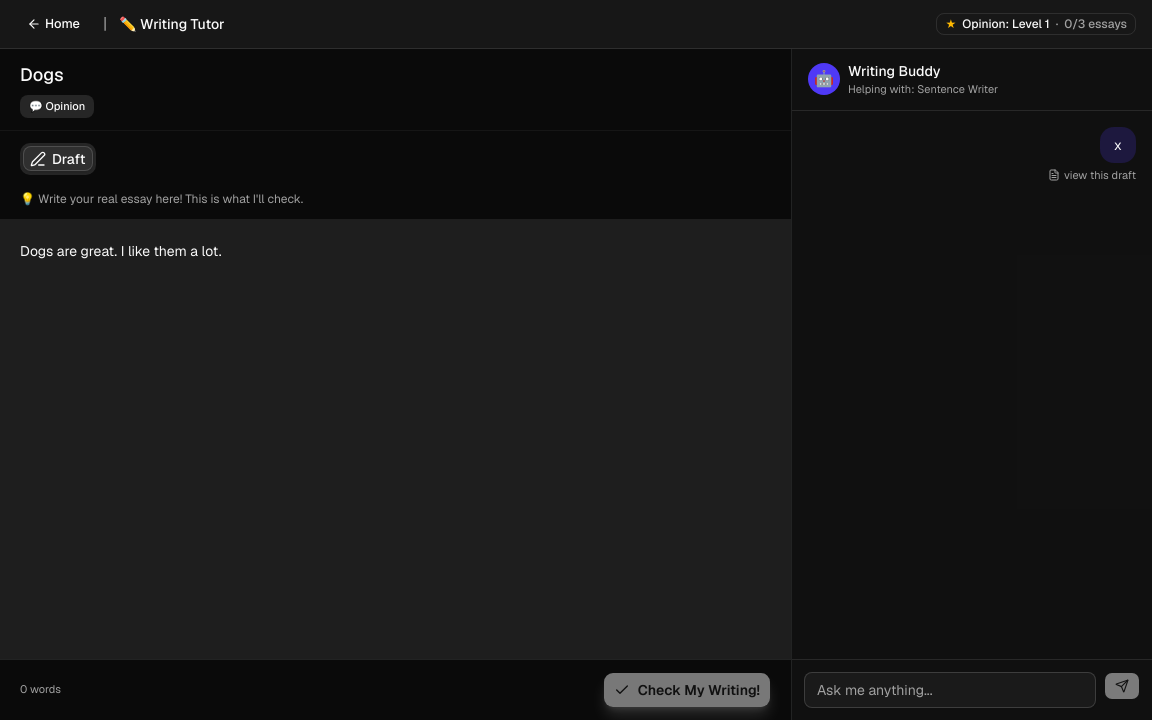
Test case: WritingScreen — history mode › Escape exits history mode
Click the button "view this draft" at (1092, 175), box top-left (1048, 166), bottom-right (1136, 183)
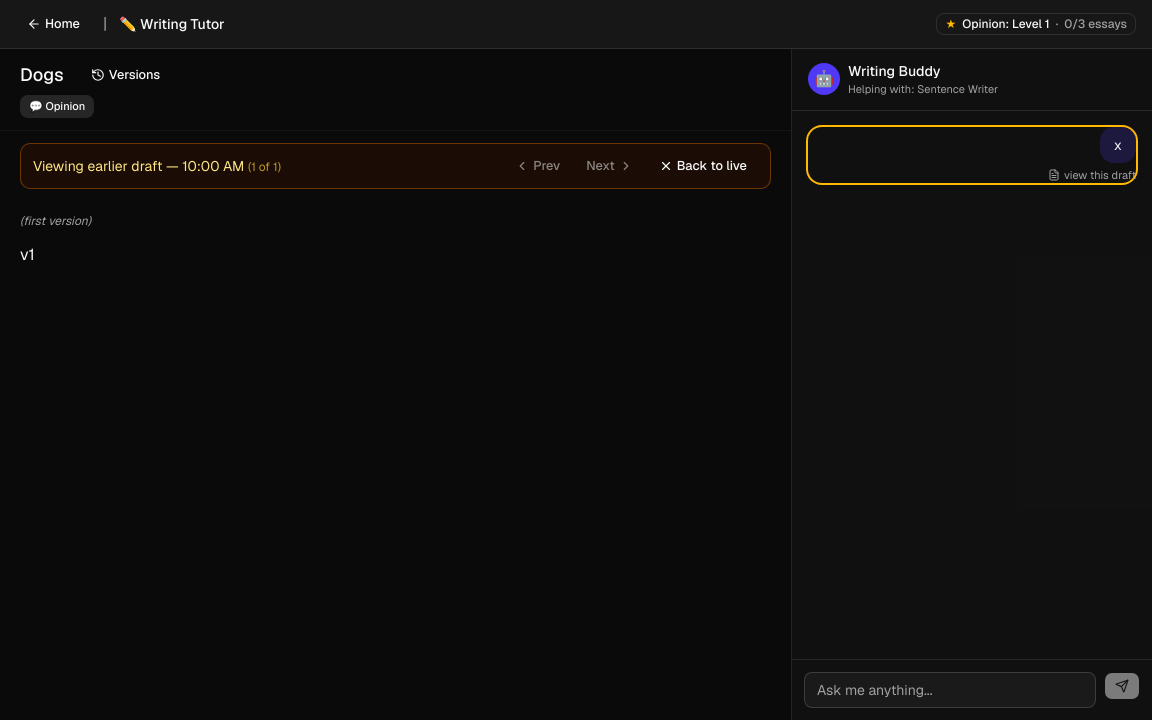
Expected: the button "Back to live" is shown, top-left (648, 152), bottom-right (758, 180)
Press Escape
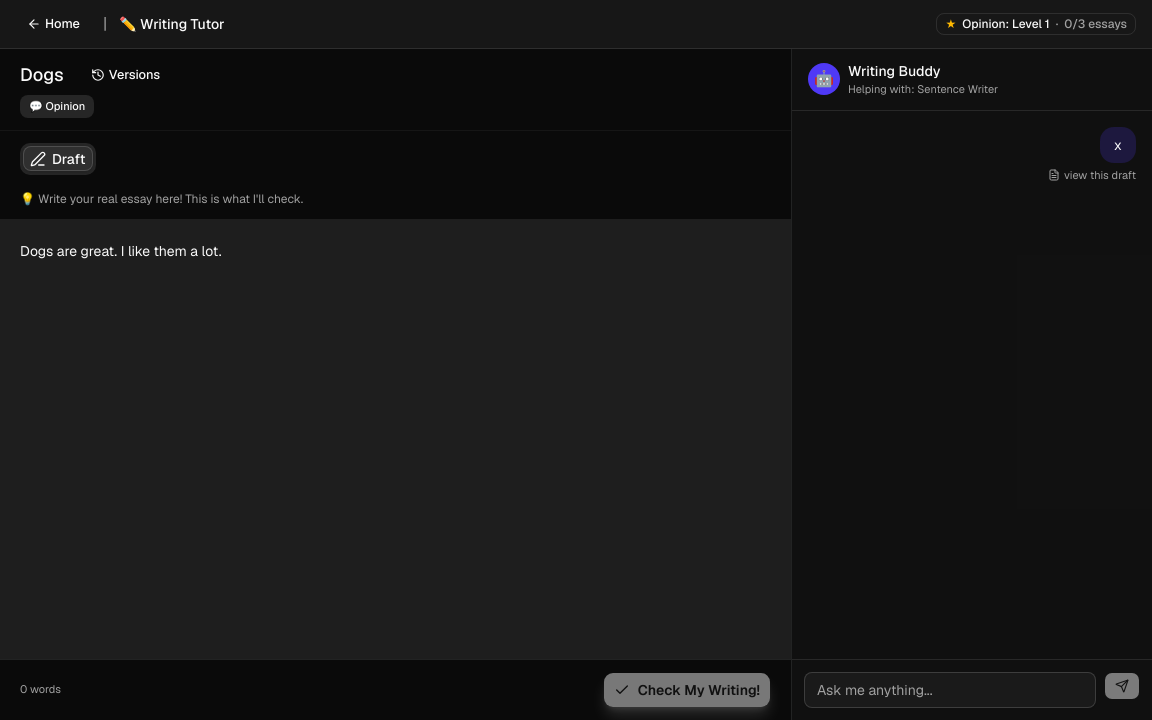
Expected: the text "Viewing earlier draft" is gone
